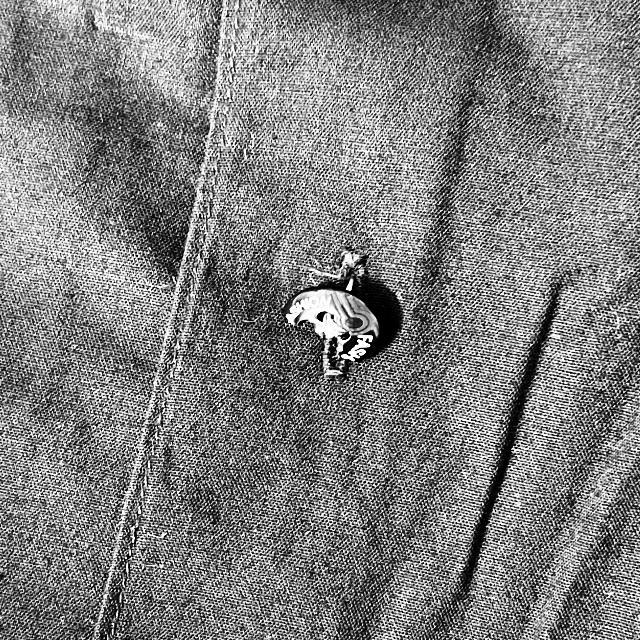Broken_button: (280, 278, 392, 378)
